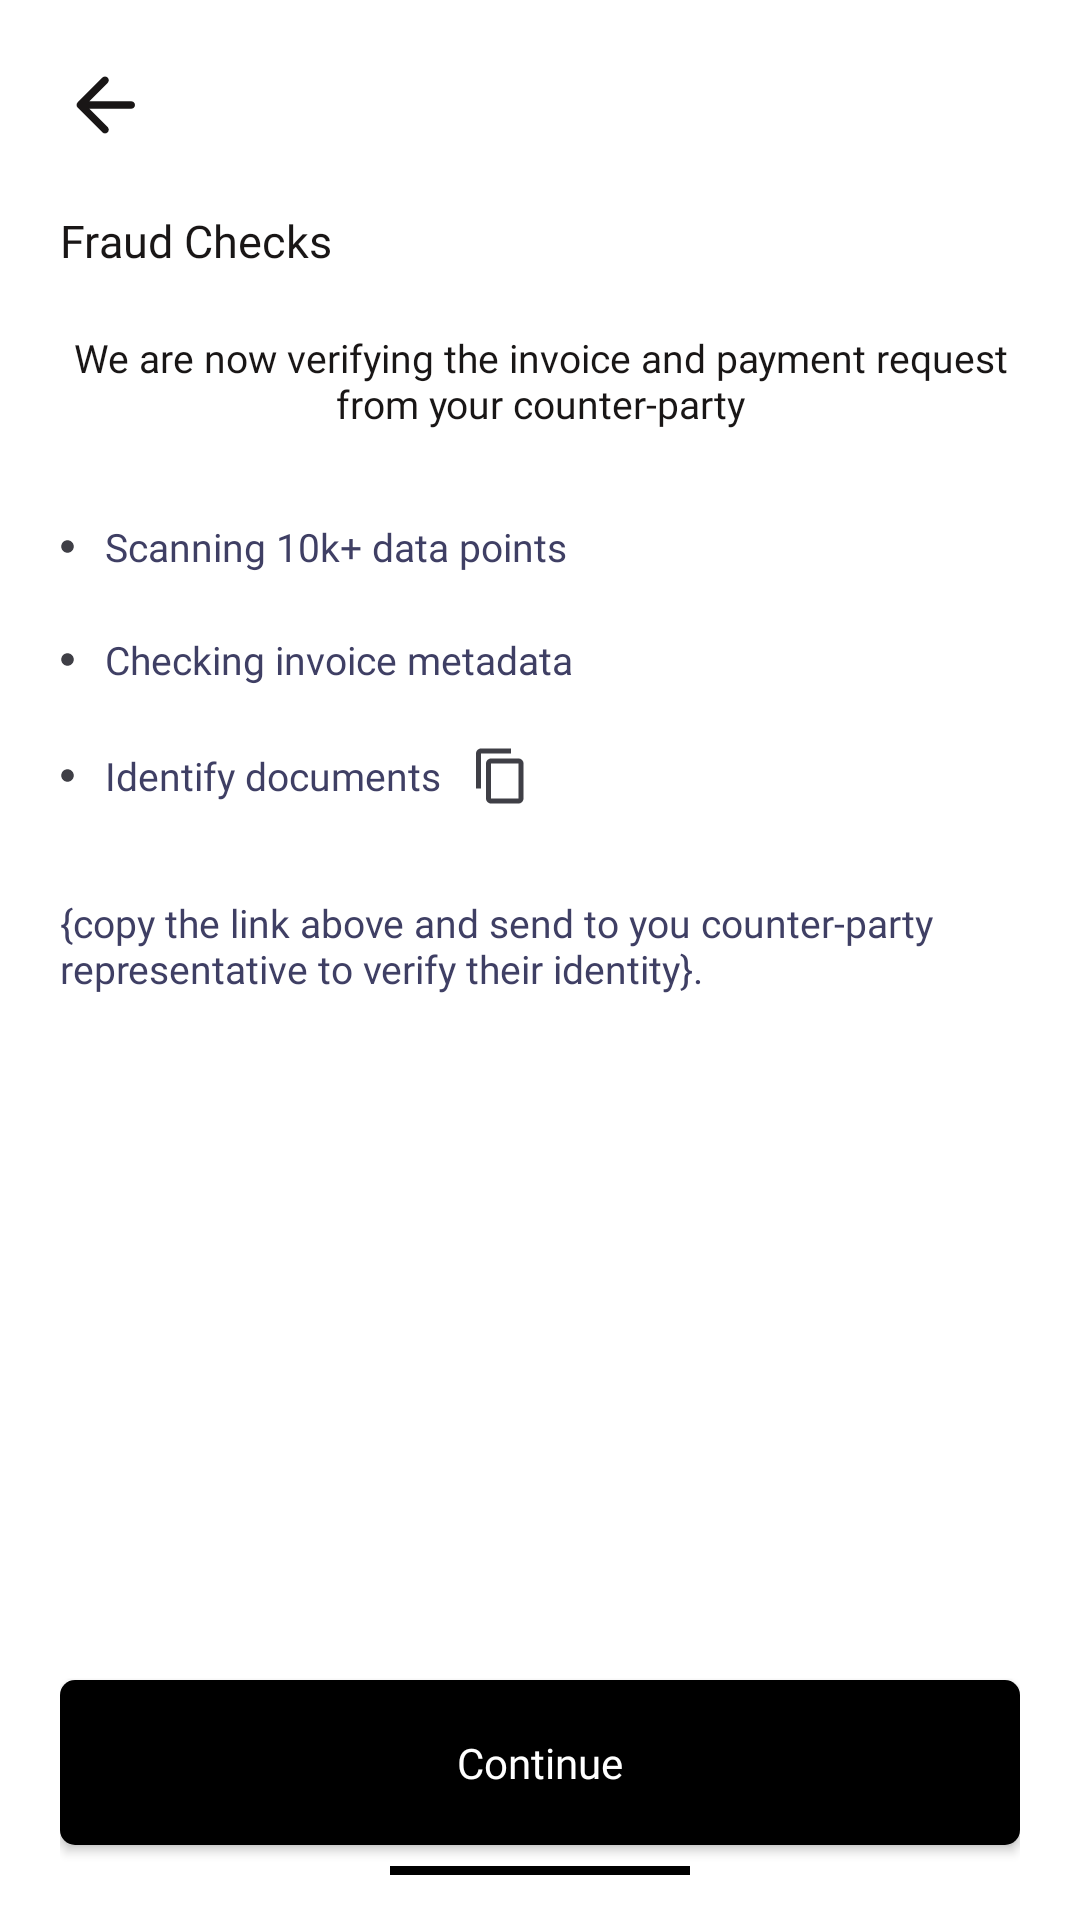

Icons on this 1080x1920 Android screen, each with its box as (x1, y1, x2, y2):
arrow left: (76, 76, 135, 134)
